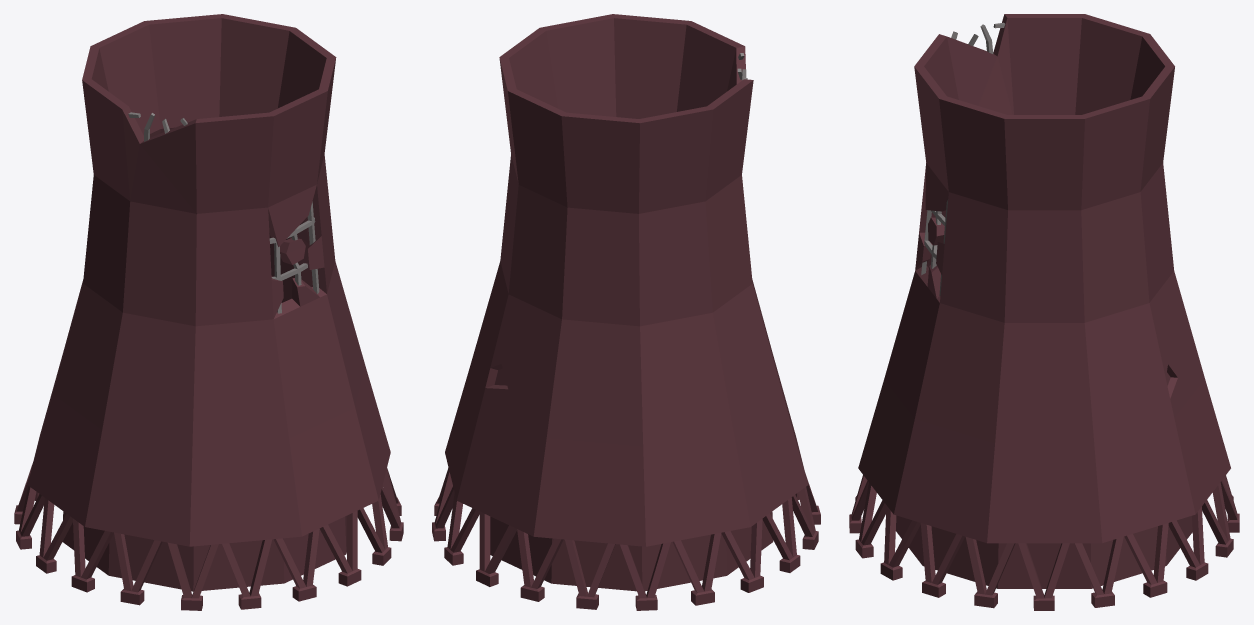
File: cooling-tower-apocalypse-a.fbx
The picture shows the model from 3 angles, left to right: view 1: azimuth 30°, elevation 25°; view 2: azimuth 150°, elevation 25°; view 3: azimuth 270°, elevation 25°; orthographic projection.
Visible parts, largest first — view 1: cooling-tower-apocalypse-a; view 2: cooling-tower-apocalypse-a; view 3: cooling-tower-apocalypse-a.
Part boxes in pixels (left/top/right/bottom): cooling-tower-apocalypse-a: left=14, top=14, right=403, bottom=610; cooling-tower-apocalypse-a: left=432, top=14, right=820, bottom=610; cooling-tower-apocalypse-a: left=849, top=14, right=1239, bottom=610.
Bounding box in the file's own units: 26.17 × 34.18 × 26.17.
